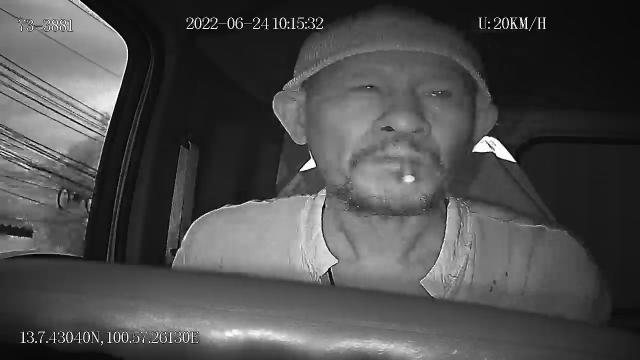SafeDriving: (342, 72, 390, 101), (416, 78, 462, 105)
Smoking: (399, 155, 421, 185)
